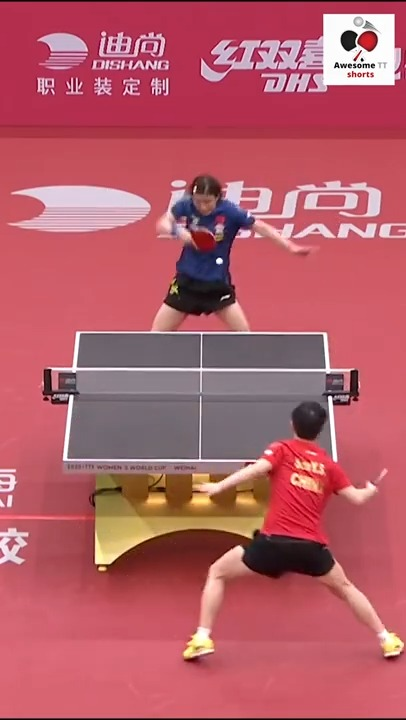Ball: (214, 254, 226, 266)
